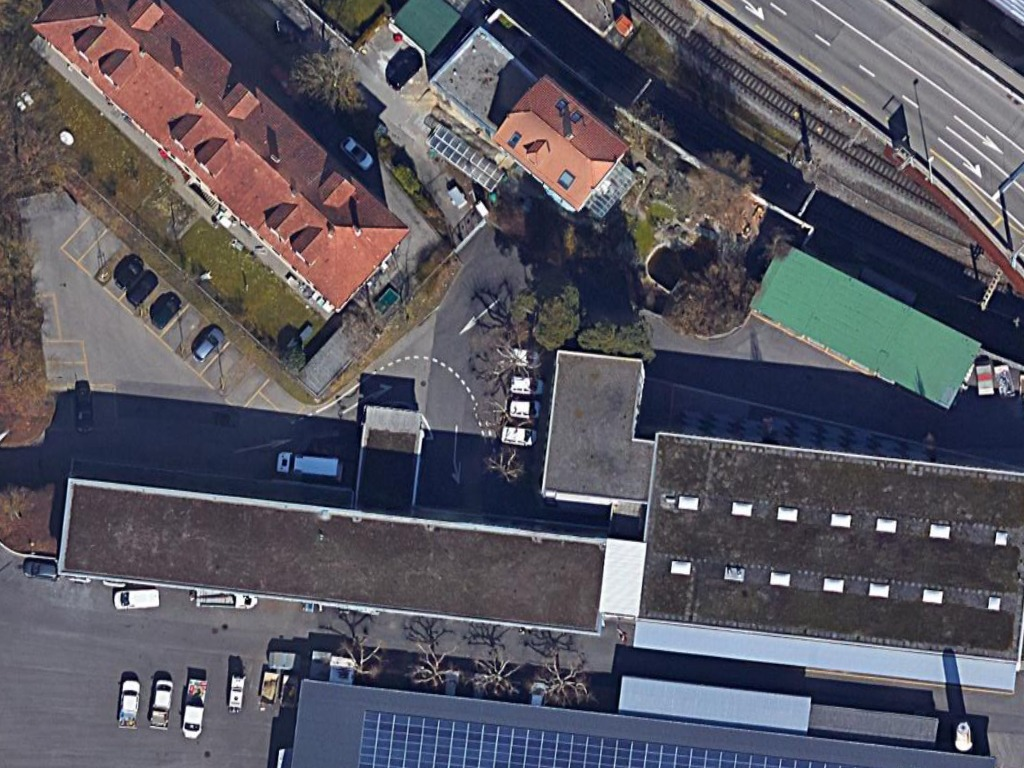car: (337, 131, 375, 173), (190, 324, 225, 367)
other: (178, 669, 213, 742), (146, 672, 176, 732), (110, 675, 143, 729)
truck: (270, 447, 349, 486)
van: (108, 585, 166, 613)
